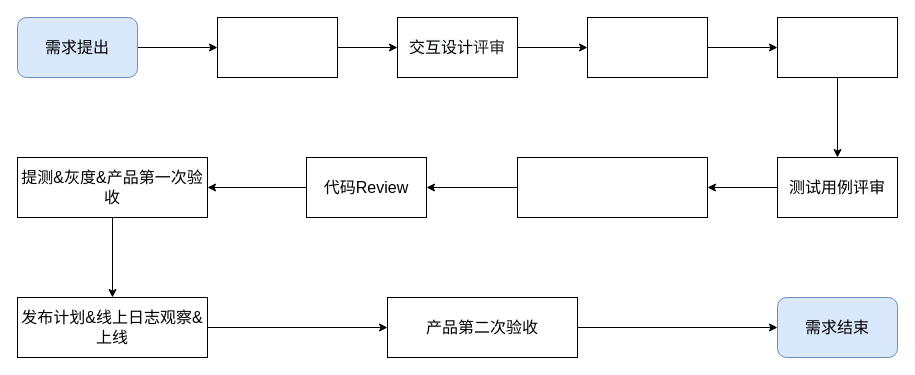
Image size: 915x375. Some labels were removed from this diagram. Here are the shapes that lost their labels. From the top down, the centre of each, then its label:
the point at 277,47: 需求 PRD (产品需求文档)评审
the point at 647,47: 概要设计
the point at 837,47: 详细设计
the point at 612,187: 接口定义&DEV开发&前后端联调
